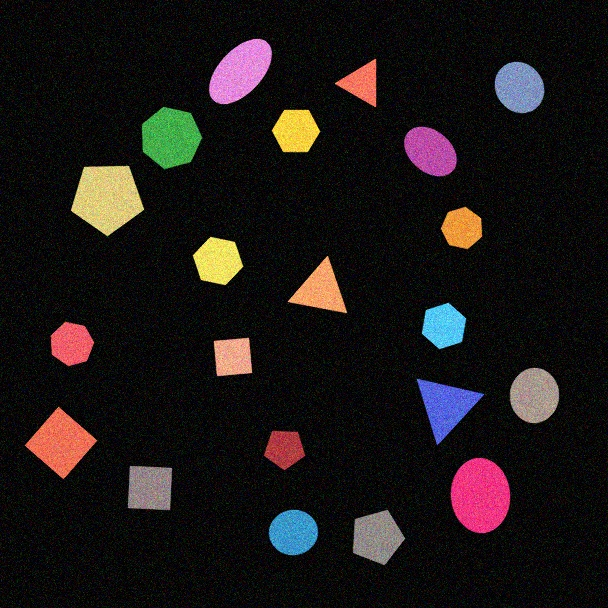Circulo: (509, 367, 560, 424), (494, 61, 545, 114), (268, 509, 319, 556)
Elipse: (450, 457, 511, 534), (208, 38, 273, 105), (403, 126, 458, 177)
Heptagono: (141, 106, 203, 170), (50, 321, 95, 367), (440, 206, 483, 250)
Hexagono: (192, 236, 244, 286), (421, 302, 467, 350), (271, 109, 321, 153)
Pentagono: (70, 165, 145, 237), (352, 509, 406, 566), (263, 430, 306, 471)
Quadrado: (24, 406, 98, 480), (127, 465, 173, 511), (213, 337, 253, 377)
Triangulo: (416, 378, 485, 446), (287, 256, 348, 314), (335, 58, 377, 108)
